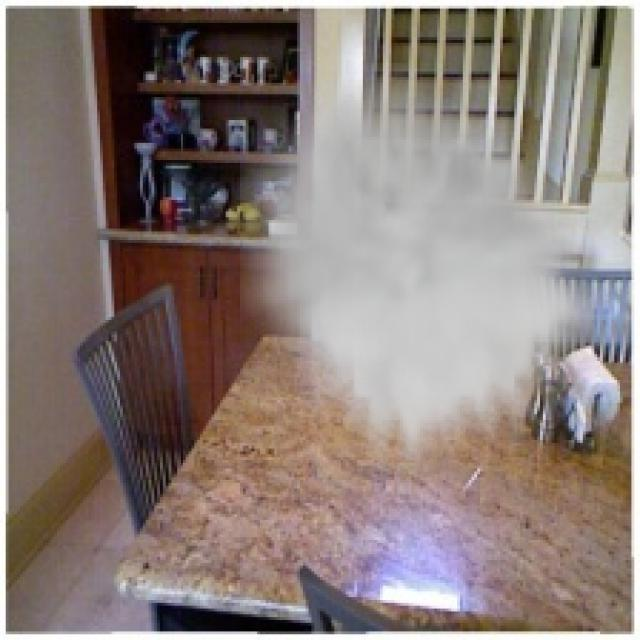smoke: (240, 63, 594, 474)
